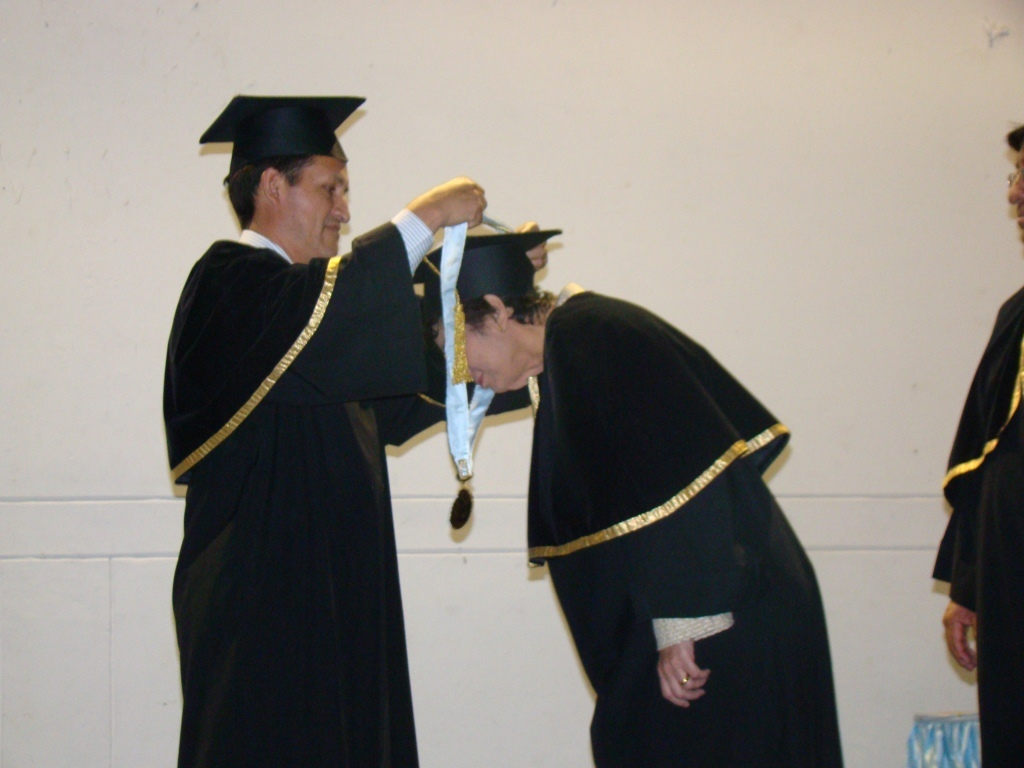Person: (412, 228, 844, 768)
